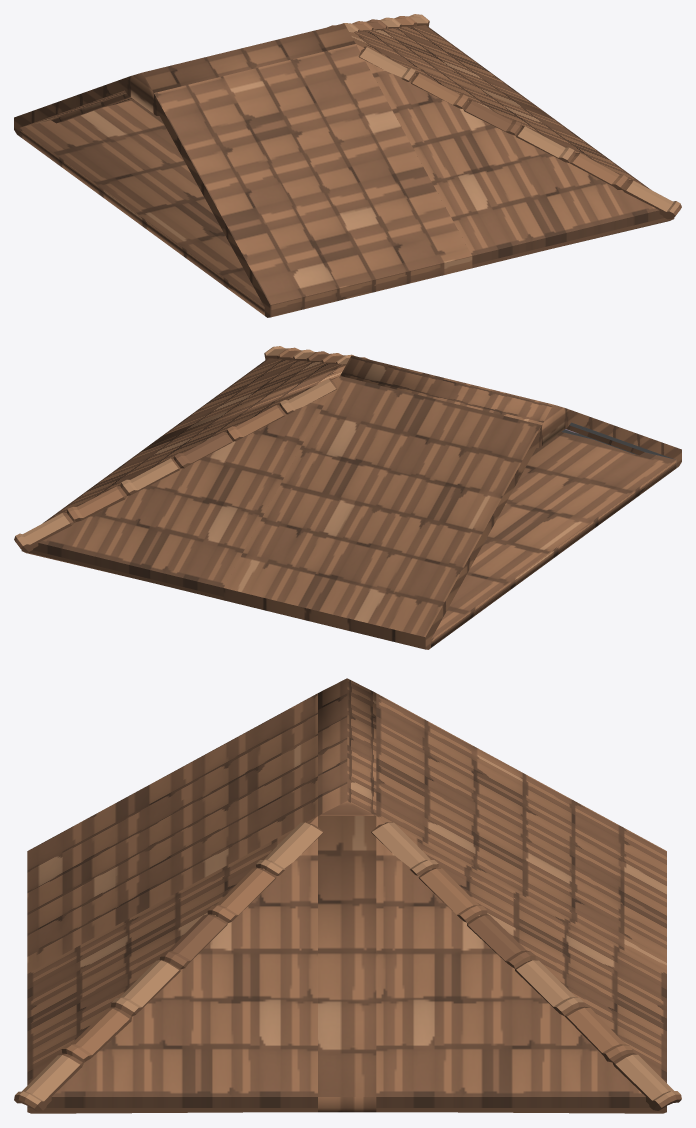
Rendered from SM_Bld_Villa_Roof_Half_edit.fbx.
The picture shows the model from 3 angles, top to bottom: view 1: azimuth 30°, elevation 25°; view 2: azimuth 150°, elevation 25°; view 3: azimuth 270°, elevation 25°; orthographic projection. The views are drawn at different scales.
Parts seen in each view (by area): view 1: SM_Bld_Villa_Roof_Corner_Out_01.002; view 2: SM_Bld_Villa_Roof_Corner_Out_01.002; view 3: SM_Bld_Villa_Roof_Corner_Out_01.002.
Boxes of the visible parts, x1,y1,x2,y2 form: SM_Bld_Villa_Roof_Corner_Out_01.002: [14, 14, 681, 317]; SM_Bld_Villa_Roof_Corner_Out_01.002: [14, 346, 681, 649]; SM_Bld_Villa_Roof_Corner_Out_01.002: [14, 678, 681, 1113].
Bounding box in the file's own units: 513 × 182 × 574.
